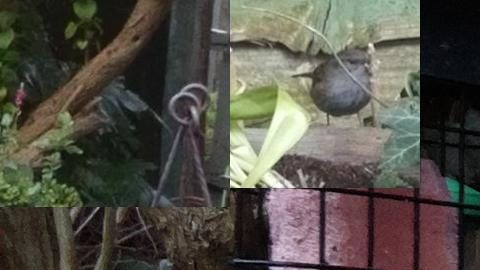sparrow: (291, 50, 370, 126)
